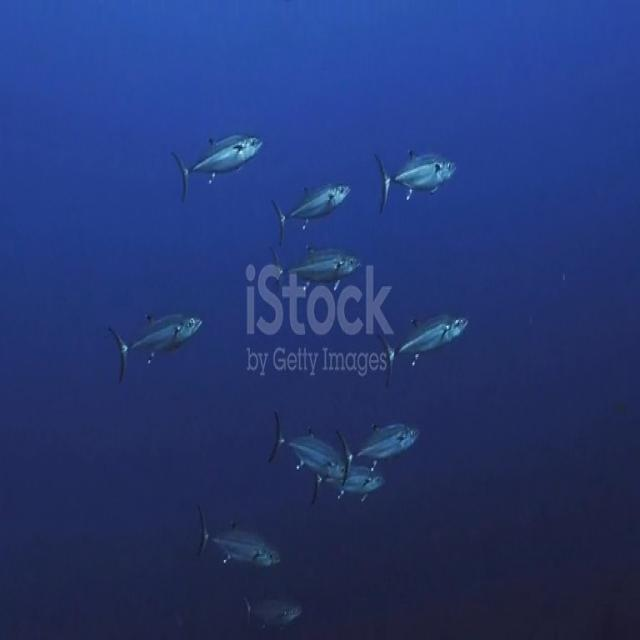fish: (111, 299, 212, 385), (378, 303, 488, 381), (193, 497, 287, 577), (172, 129, 273, 199), (371, 140, 460, 212), (298, 450, 391, 514), (334, 414, 429, 476), (264, 179, 355, 239), (275, 409, 343, 481), (264, 242, 365, 288)
